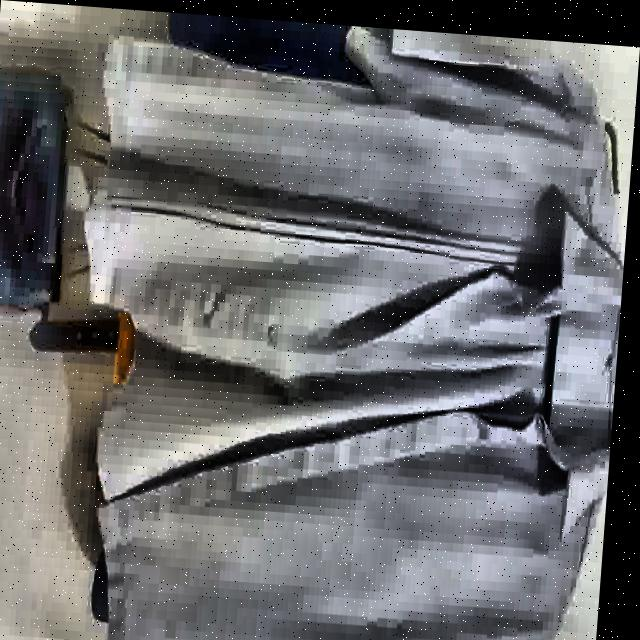clothes: (44, 13, 640, 640)
